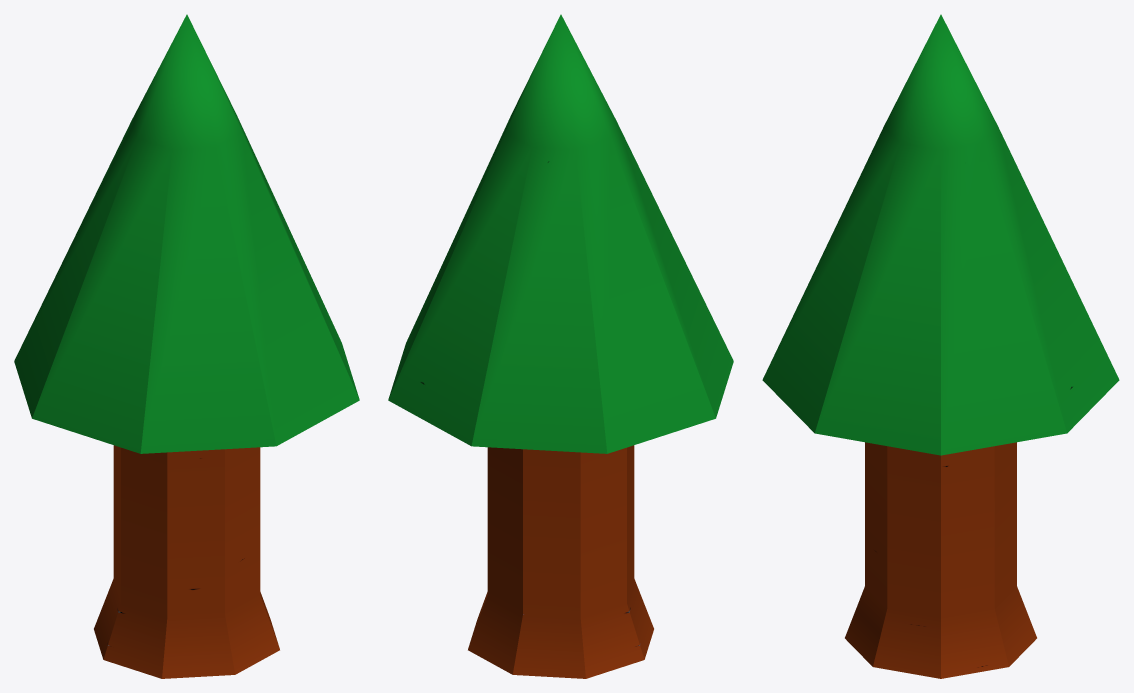
File: Arvore.fbx
3 views of the same model, side by side, from view 1: azimuth 30°, elevation 25°; view 2: azimuth 150°, elevation 25°; view 3: azimuth 270°, elevation 25° (orthographic).
Parts seen in each view (by area): view 1: Arvore; view 2: Arvore; view 3: Arvore.
Boxes of the visible parts, x1=… form: Arvore: x1=14, y1=14, x2=359, y2=678; Arvore: x1=388, y1=14, x2=733, y2=678; Arvore: x1=762, y1=14, x2=1119, y2=678.
Size of the model in its own units: 3.19 by 6.15 by 3.19.
